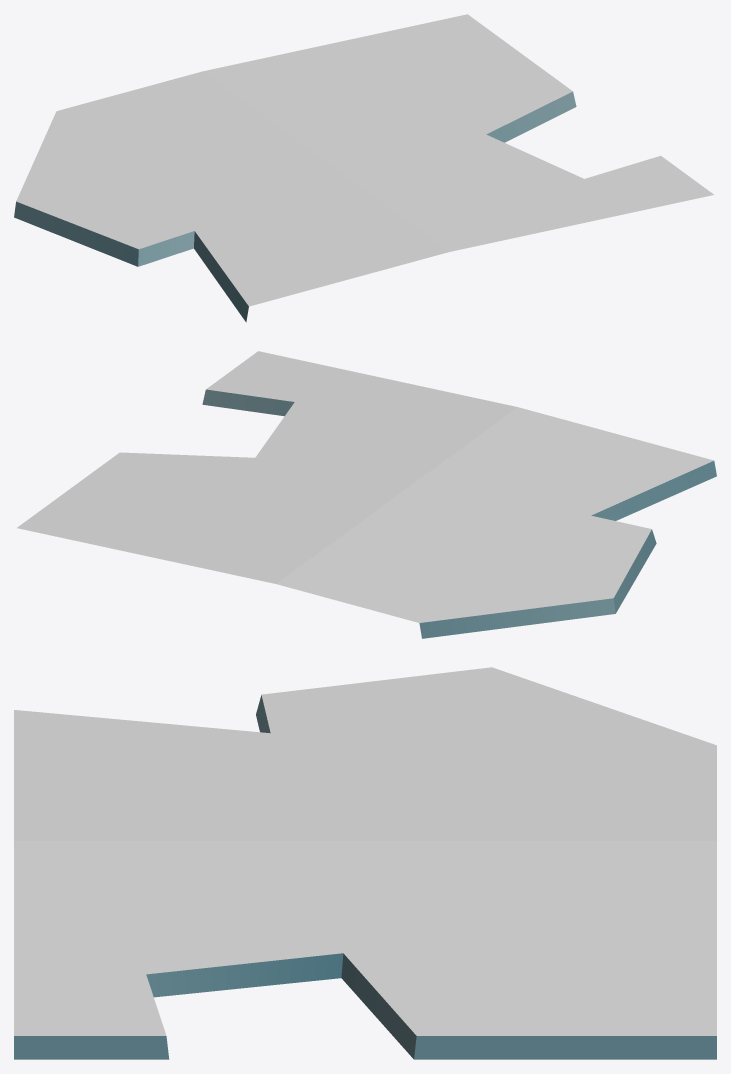
Rendered from icePiece_02.glb.
The picture shows the model from 3 angles, top to bottom: view 1: azimuth 30°, elevation 25°; view 2: azimuth 150°, elevation 25°; view 3: azimuth 270°, elevation 25°; orthographic projection. The views are drawn at different scales.
Visible parts, largest first — view 1: icePiece_02; view 2: icePiece_02; view 3: icePiece_02.
Part boxes in pixels (bbox=[...]): icePiece_02: bbox=[14, 14, 713, 322]; icePiece_02: bbox=[17, 351, 716, 638]; icePiece_02: bbox=[14, 667, 716, 1059].
Bounding box in the file's own units: 3.4 × 0.1394 × 2.72.
